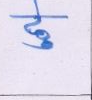u_matra: (24, 38, 55, 51)
